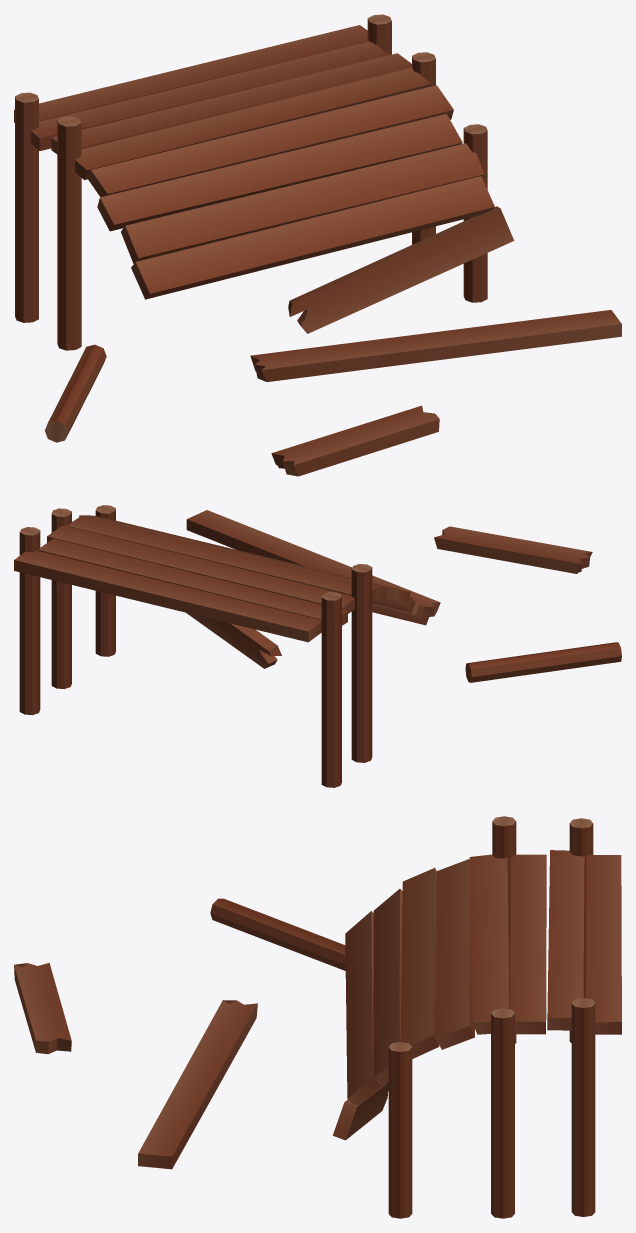
Rendered from brokenBridge.fbx.
The picture shows the model from 3 angles, top to bottom: view 1: azimuth 30°, elevation 25°; view 2: azimuth 150°, elevation 25°; view 3: azimuth 270°, elevation 25°; orthographic projection. The views are drawn at different scales.
Visible parts, largest first — view 1: bridge_planes, bridge_planes.001, bridge, bridge_planes.002, bridge.001; view 2: bridge_planes, bridge, bridge_planes.001, bridge.001, bridge_planes.002; view 3: bridge_planes, bridge, bridge_planes.001, bridge.001, bridge_planes.002.
Boxes of the visible parts, box(x1,y1,x2,y2) form: bridge_planes: box(14, 25, 494, 299); bridge_planes.001: box(250, 310, 621, 476); bridge: box(15, 14, 435, 350); bridge_planes.002: box(288, 206, 514, 333); bridge.001: box(44, 124, 487, 442); bridge_planes: box(14, 515, 429, 642); bridge: box(19, 508, 372, 787); bridge_planes.001: box(186, 510, 592, 616); bridge.001: box(95, 505, 621, 682); bridge_planes.002: box(186, 612, 281, 668); bridge_planes: box(345, 850, 621, 1105); bridge: box(491, 816, 595, 1218); bridge_planes.001: box(14, 962, 257, 1169); bridge.001: box(210, 898, 412, 1218); bridge_planes.002: box(333, 1082, 388, 1140).
Bounding box in the file's own units: 9.6 × 3.81 × 9.48.
Materials: 1 (1 with a texture image).
